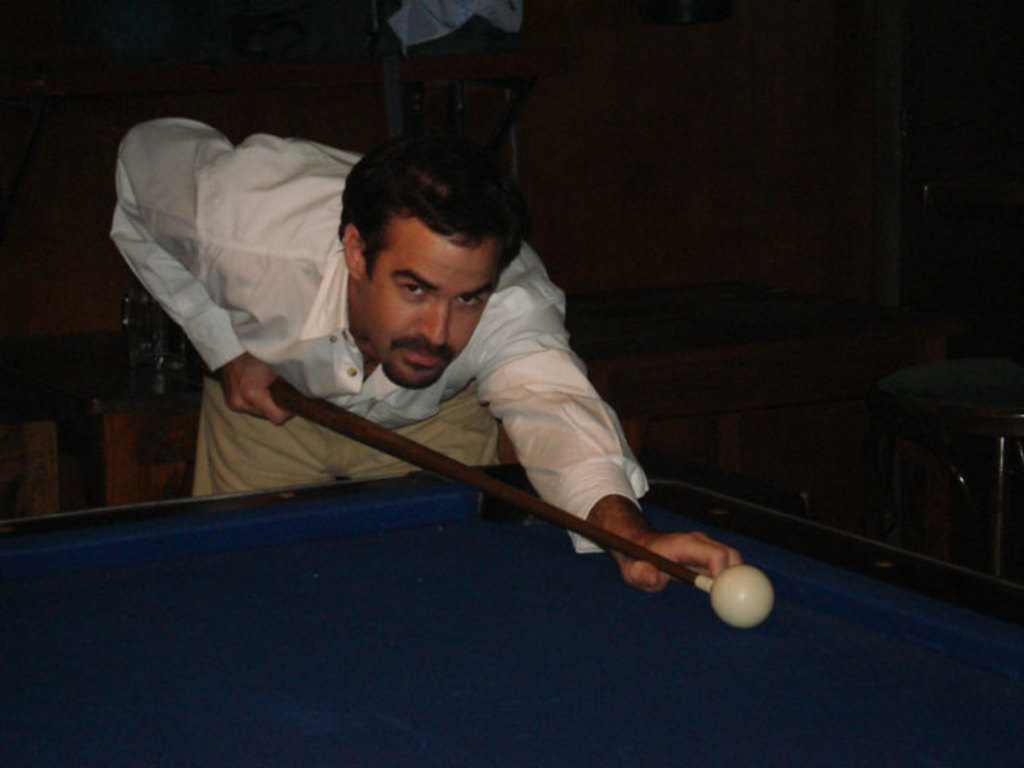Ball: (710, 563, 771, 625)
